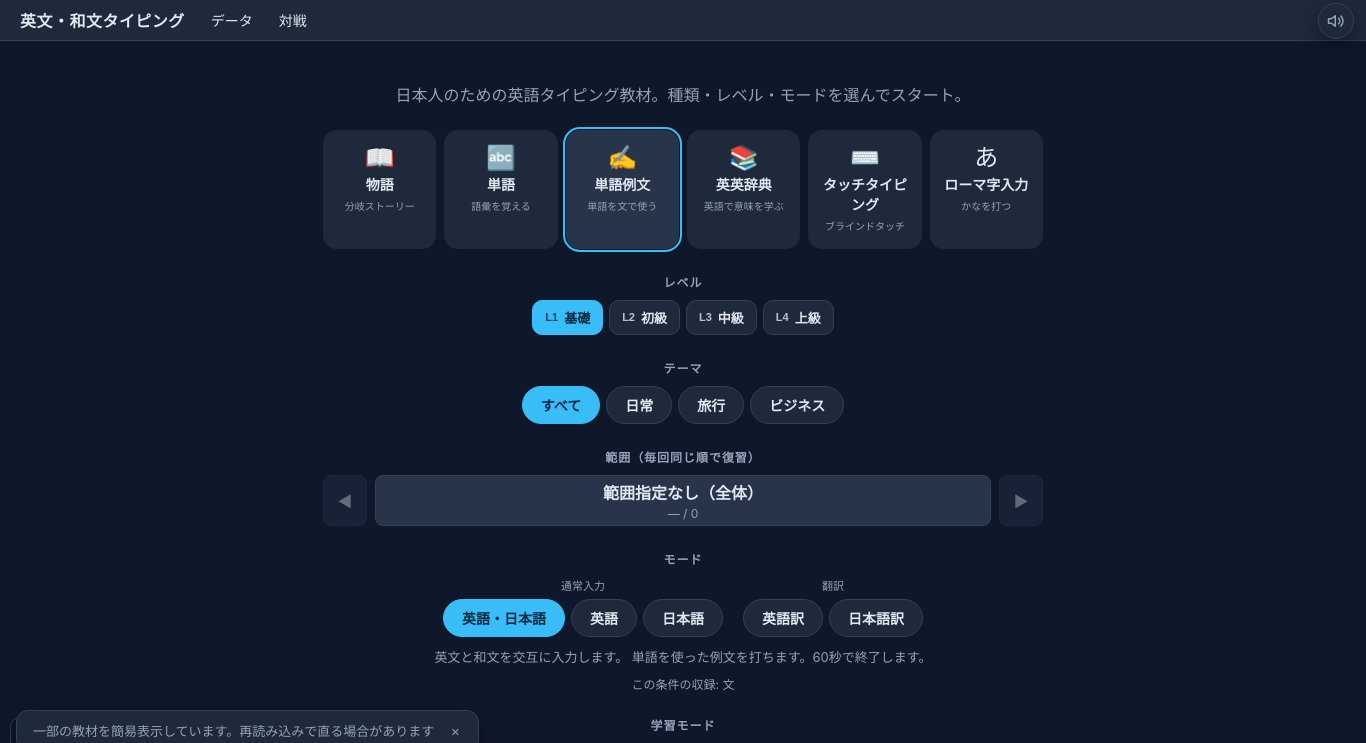
Test: App スモーク › 「単語例文」を選んで開始してもクラッシュせずプレイ画面になる
This screenshot has width=1366, height=743.
Click the text "単語例文". click: click(622, 184)
box: [594,174,650,194]
(page scrolled)
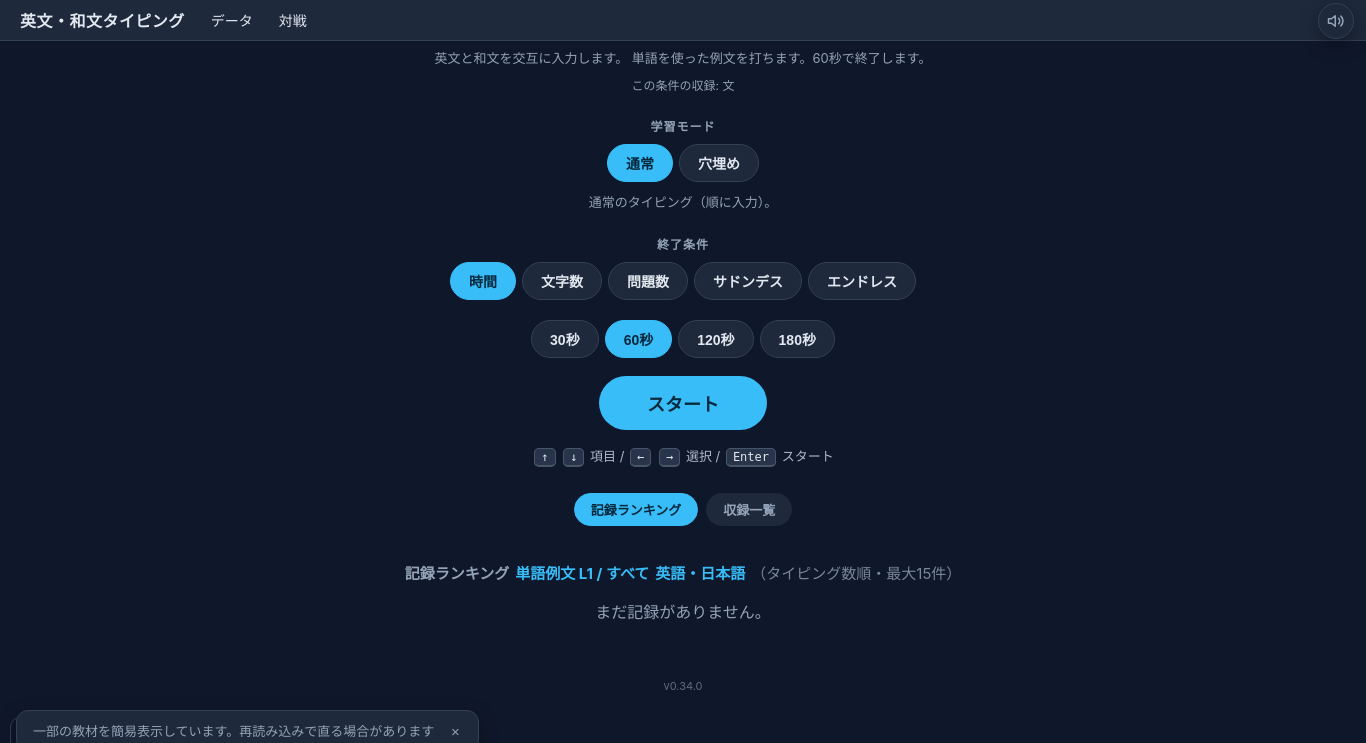
Click the button "スタート". click: click(683, 403)
box: [599,376,767,430]
(page scrolled)
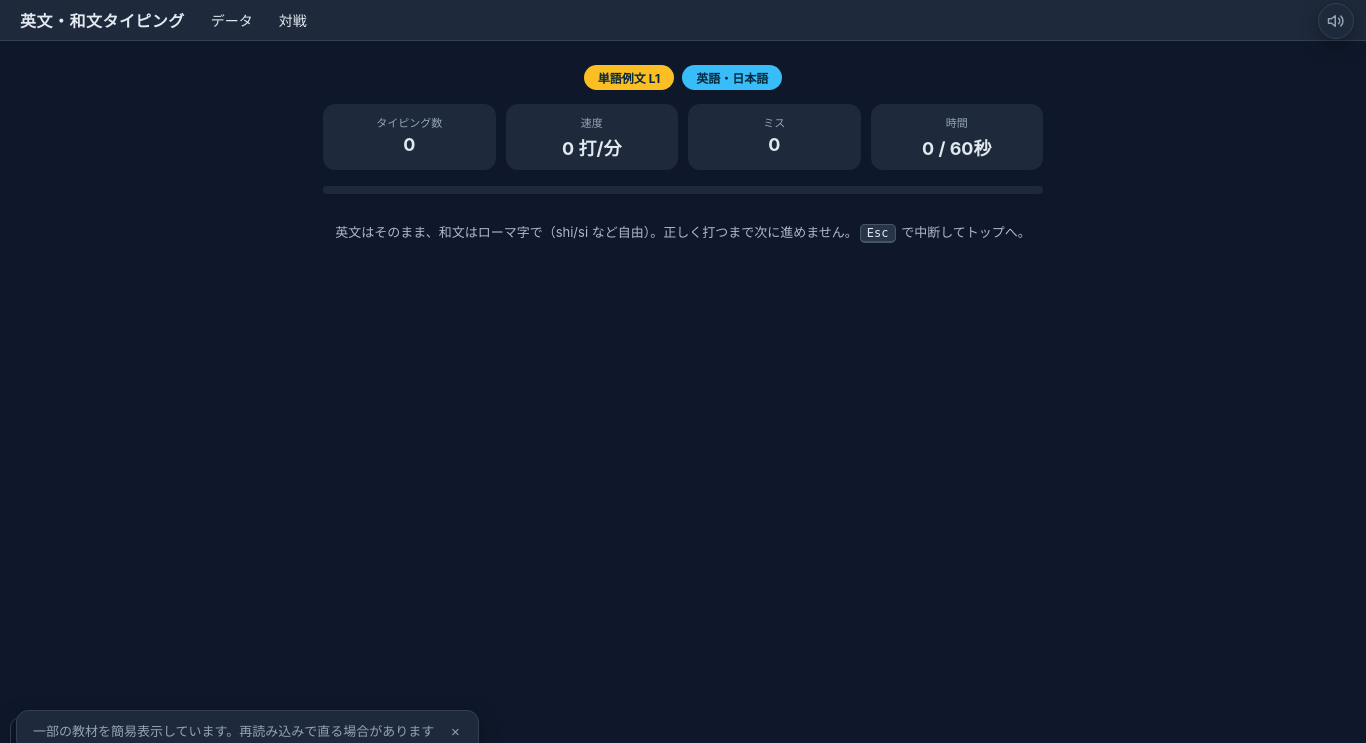
Check: the element that starts with "単語例文 L1" is shown, box [323,65,1043,254]
